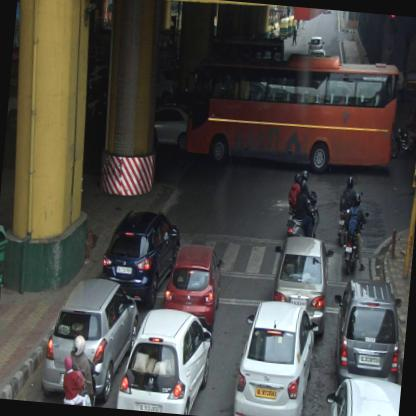bus: (184, 45, 398, 176)
car: (40, 274, 142, 407), (116, 304, 215, 415), (233, 299, 323, 415), (99, 208, 182, 307), (329, 277, 406, 383), (268, 235, 335, 335), (163, 244, 225, 332), (322, 375, 402, 415), (308, 36, 325, 53)
motorcycle: (60, 334, 104, 406), (340, 191, 370, 276), (286, 170, 323, 236), (337, 174, 358, 245)
